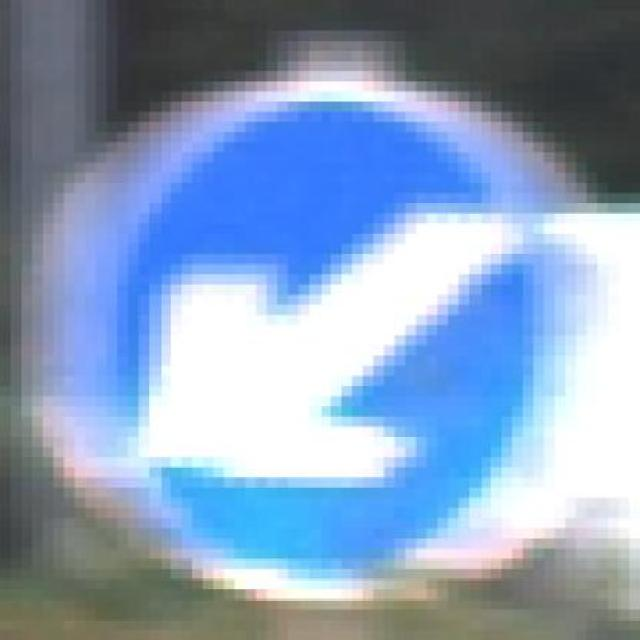Keep-Left: (42, 51, 608, 620)
